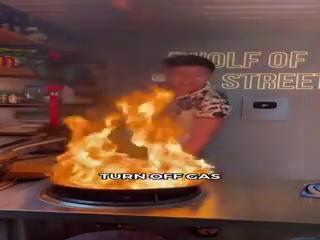Fire: (49, 88, 216, 186)
